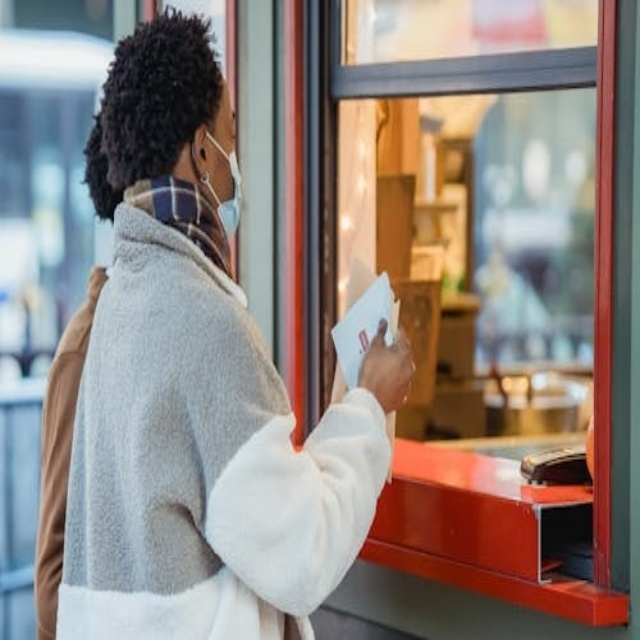Mascara: (201, 129, 244, 241)
Sin_gafas: (215, 113, 241, 152)
Sin_guantes: (356, 314, 416, 412)
